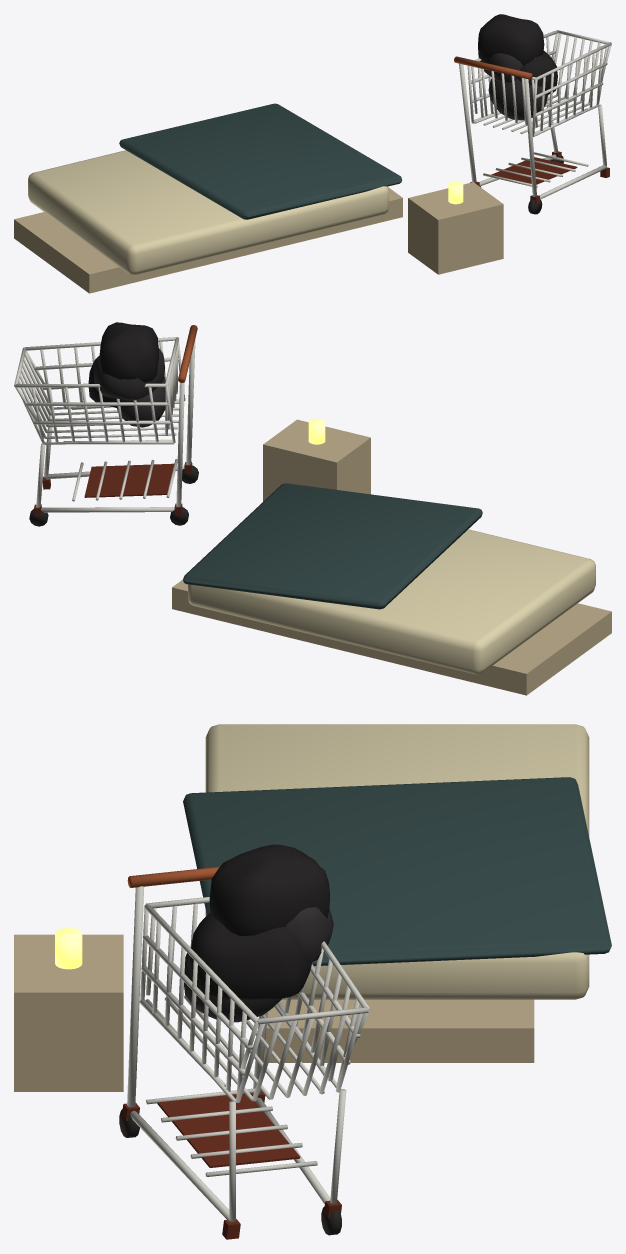
File: tunnel_camp_a.glb
3 renders of one model, top to bottom at view 1: azimuth 30°, elevation 25°; view 2: azimuth 150°, elevation 25°; view 3: azimuth 270°, elevation 25°, orthographic. The views are drawn at different scales.
Parts seen in each view (by area): view 1: mattress, blanket, crate, pallet_0, bag_2, pallet_1, bag, tray_rust, bag_0, bag_1, leg_1, leg_-1 (+1 smaller); view 2: mattress, blanket, pallet_0, crate, bag_2, tray_rust, pallet_1, bag_1, bag, base_1, leg_1, leg_-1 (+2 smaller); view 3: blanket, mattress, crate, pallet_1, bag_2, bag_0, tray_rust, leg_-1, bag_1, base_-1, bag, handle (+7 smaller).
Part boxes in pixels (x1,y1,x2,y2): mattress: [28, 150, 388, 274]; blanket: [119, 103, 402, 219]; crate: [408, 182, 503, 274]; pallet_0: [14, 212, 246, 293]; bag_2: [478, 14, 544, 65]; pallet_1: [246, 187, 402, 255]; bag: [488, 78, 547, 120]; tray_rust: [491, 157, 577, 184]; bag_0: [517, 50, 557, 94]; bag_1: [478, 53, 536, 82]; leg_1: [459, 63, 476, 182]; leg_-1: [524, 78, 536, 196]; mattress: [188, 529, 595, 674]; blanket: [183, 483, 482, 609]; pallet_0: [349, 603, 611, 695]; crate: [263, 419, 370, 501]; bag_2: [99, 322, 159, 382]; tray_rust: [84, 463, 174, 497]; pallet_1: [172, 579, 349, 651]; bag_1: [94, 348, 164, 400]; bag: [117, 377, 165, 427]; base_1: [41, 507, 174, 512]; leg_1: [176, 382, 184, 506]; leg_-1: [186, 338, 195, 464]; blanket: [183, 777, 611, 966]; mattress: [205, 724, 589, 999]; crate: [14, 934, 123, 1091]; pallet_1: [263, 999, 534, 1062]; bag_2: [209, 844, 329, 935]; bag_0: [190, 913, 312, 1000]; tray_rust: [157, 1093, 300, 1167]; leg_-1: [127, 886, 144, 1107]; bag_1: [214, 907, 333, 962]; base_-1: [130, 1111, 236, 1222]; bag: [184, 947, 282, 1022]; handle: [127, 866, 219, 887].
Size of the model in its own units: 3.99 by 1.31 by 2.18.
